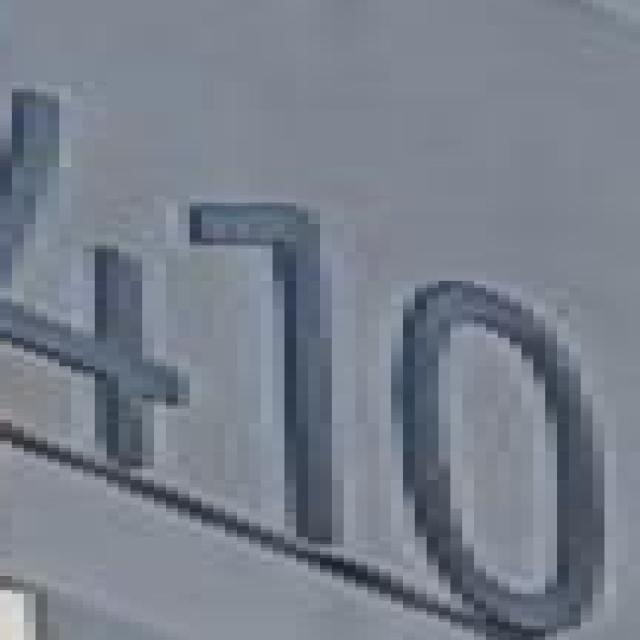character: (387, 274, 620, 640), (0, 79, 213, 478), (171, 196, 366, 553)
